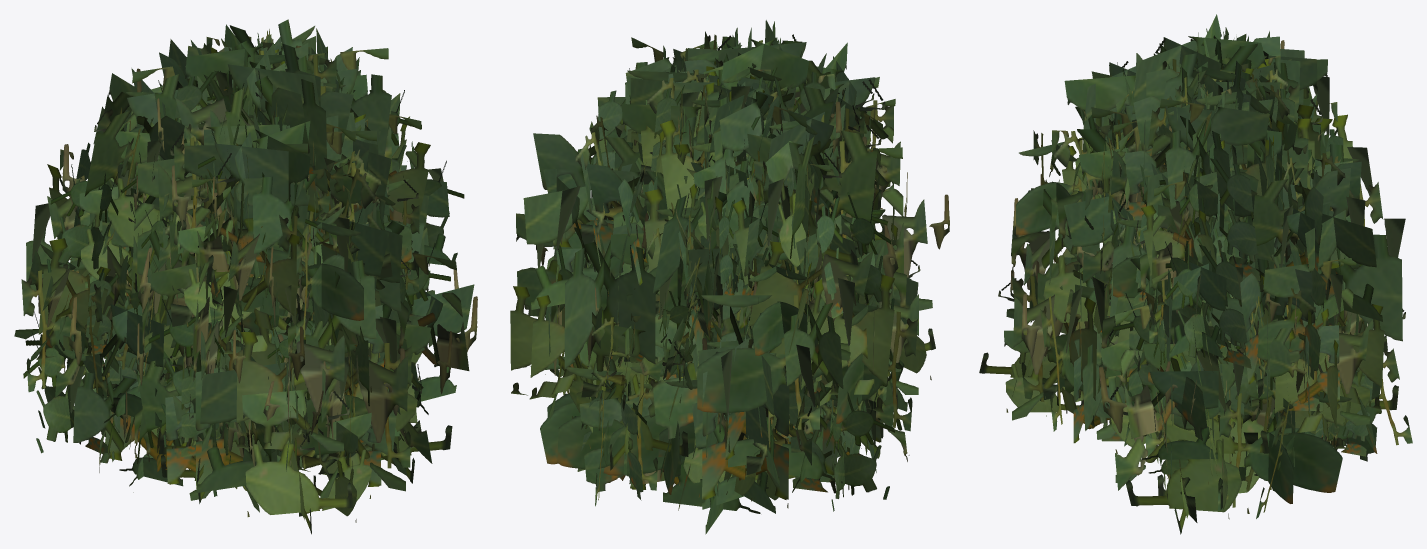
File: rounded-shrub-lod0.glb
3 renders of one model, left to right at view 1: azimuth 30°, elevation 25°; view 2: azimuth 150°, elevation 25°; view 3: azimuth 270°, elevation 25°, orthographic. The views are drawn at different scales.
Visible parts, largest first — view 1: foliage; view 2: foliage; view 3: foliage.
Boxes of the visible parts, left/top/right/bottom form: foliage: left=14, top=19, right=477, bottom=534; foliage: left=510, top=20, right=949, bottom=534; foliage: left=979, top=14, right=1412, bottom=534.
Bounding box in the file's own units: 1.26 × 1.31 × 1.26.
Materials: 1 (1 with a texture image).
